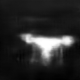plane: (16, 31, 76, 65)
